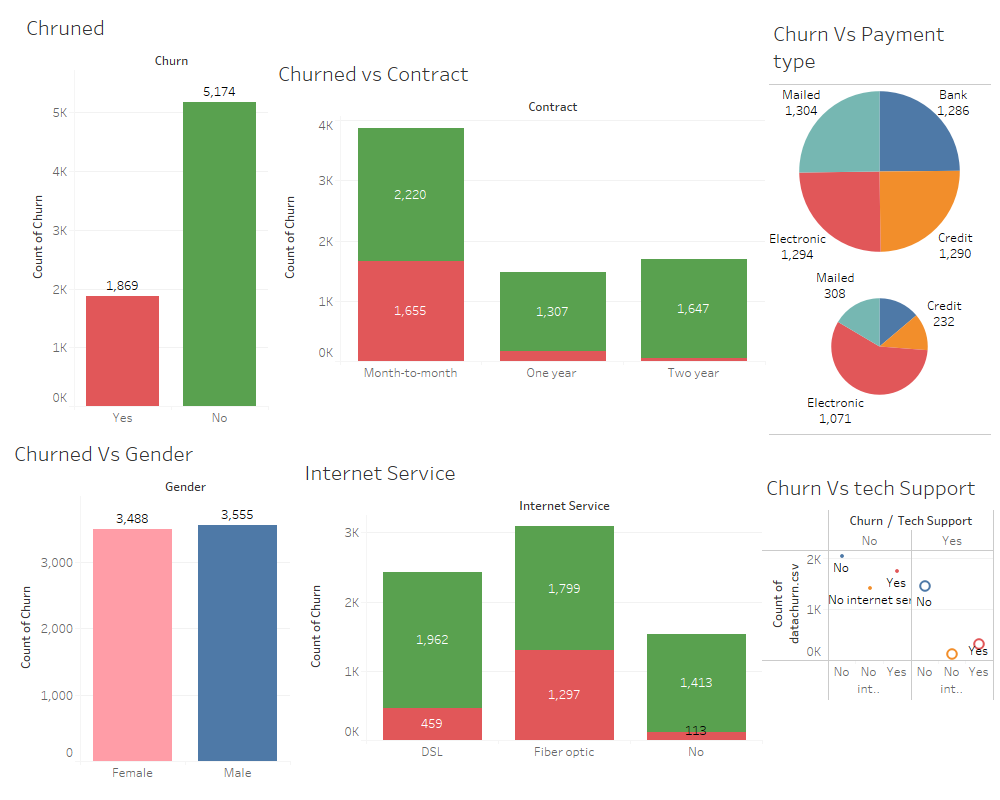

What the dashboard file says about the page in this screenshot:
{"tool":"tableau","page":{"name":"Dashboard 1","canvas":[1000,800],"ordinal":0},"visuals":[{"type":"worksheet","title":"Sheet 1","mark":"Automatic","rows":["Churn"],"cols":["Churn"],"box":[22,7,246,420]},{"type":"worksheet","title":"Sheet 5","mark":"Pie","rows":["Churn"],"box":[769,13,222,422]},{"type":"worksheet","title":"Sheet 2","mark":"Automatic","rows":["Churn"],"cols":["Contract"],"box":[274,53,491,329]},{"type":"worksheet","title":"Sheet 4","mark":"Automatic","rows":["Churn"],"cols":["gender"],"box":[10,433,280,349]},{"type":"worksheet","title":"Sheet 3","mark":"Automatic","rows":["Churn"],"cols":["InternetService"],"box":[300,452,462,309]},{"type":"worksheet","title":"Sheet 6","mark":"Shape","rows":["datachurn.csv_0F69E67E7FEB4722AAC5C3778C8F9B47"],"cols":["Churn","TechSupport"],"box":[762,467,232,234]}]}

Visuals, with their boxes in screenshot pixels (x1, y1, x2, y2), scaled from the page's 1000x800 canvas onto the 1000x800 screenshot:
"Sheet 1" worksheet: [left=22, top=7, right=268, bottom=427]
"Sheet 5" worksheet (Pie marks): [left=769, top=13, right=991, bottom=435]
"Sheet 2" worksheet: [left=274, top=53, right=765, bottom=382]
"Sheet 4" worksheet: [left=10, top=433, right=290, bottom=782]
"Sheet 3" worksheet: [left=300, top=452, right=762, bottom=761]
"Sheet 6" worksheet (Shape marks): [left=762, top=467, right=994, bottom=701]
